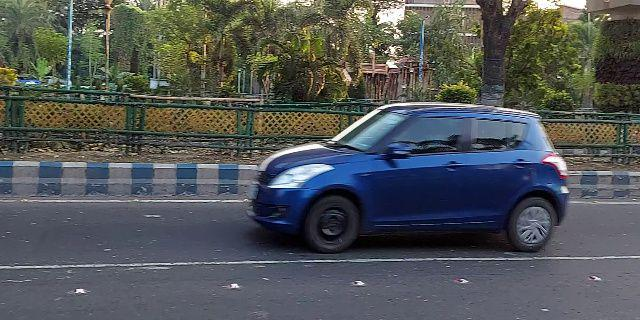Car: (245, 97, 572, 259)
